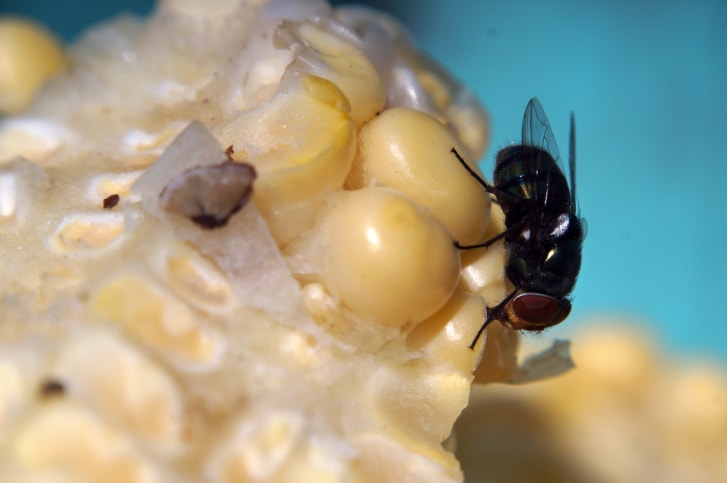fly: (450, 95, 593, 361)
